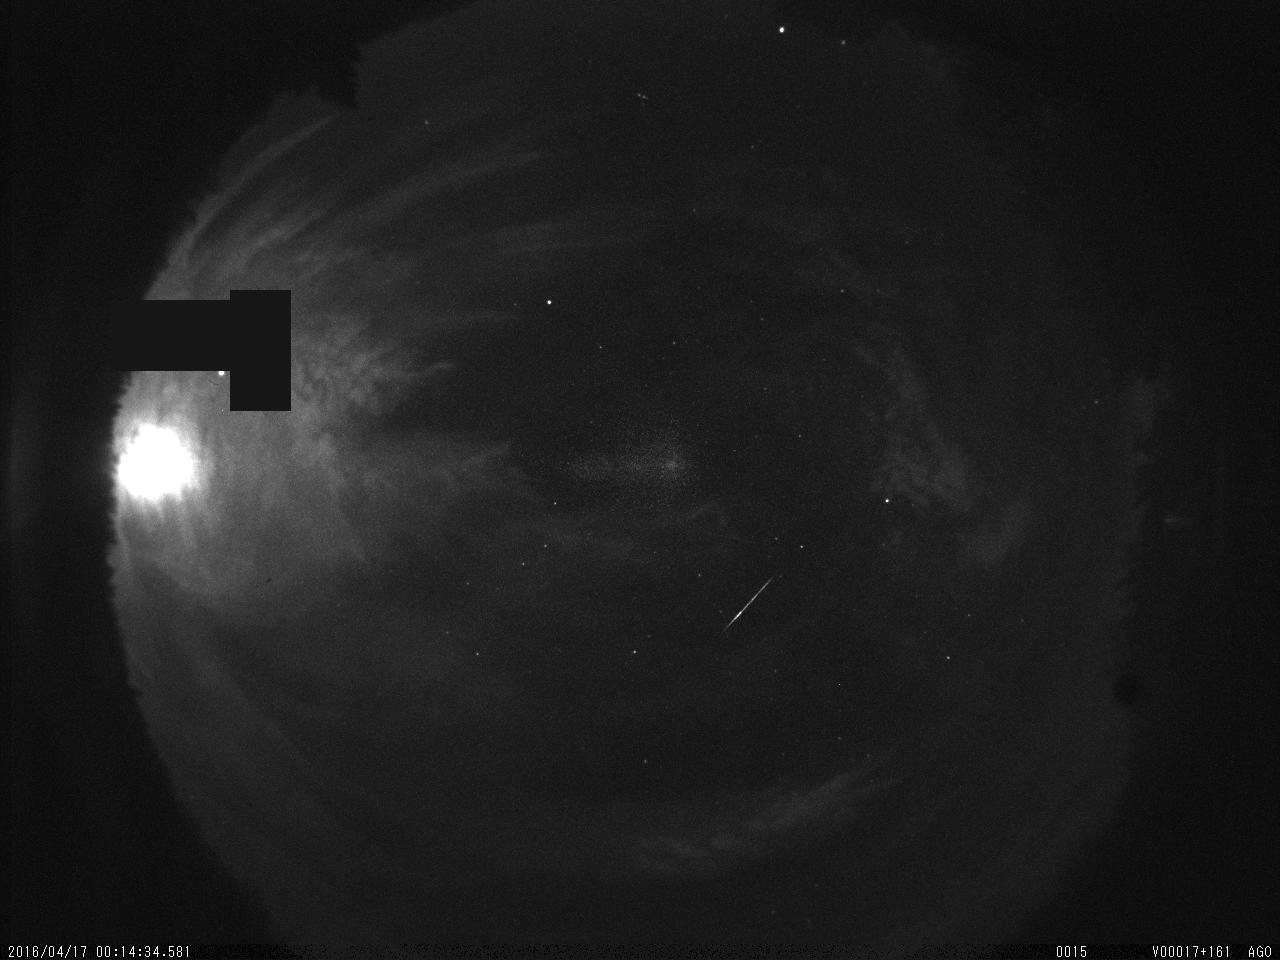meteor: (703, 545, 810, 652)
